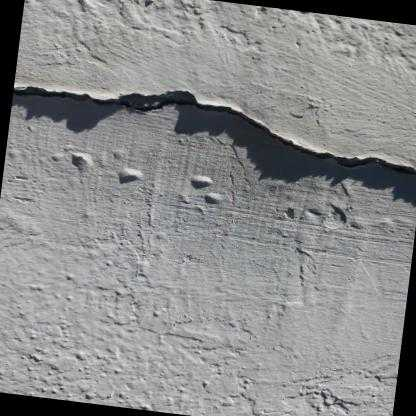crack: (15, 81, 416, 174)
